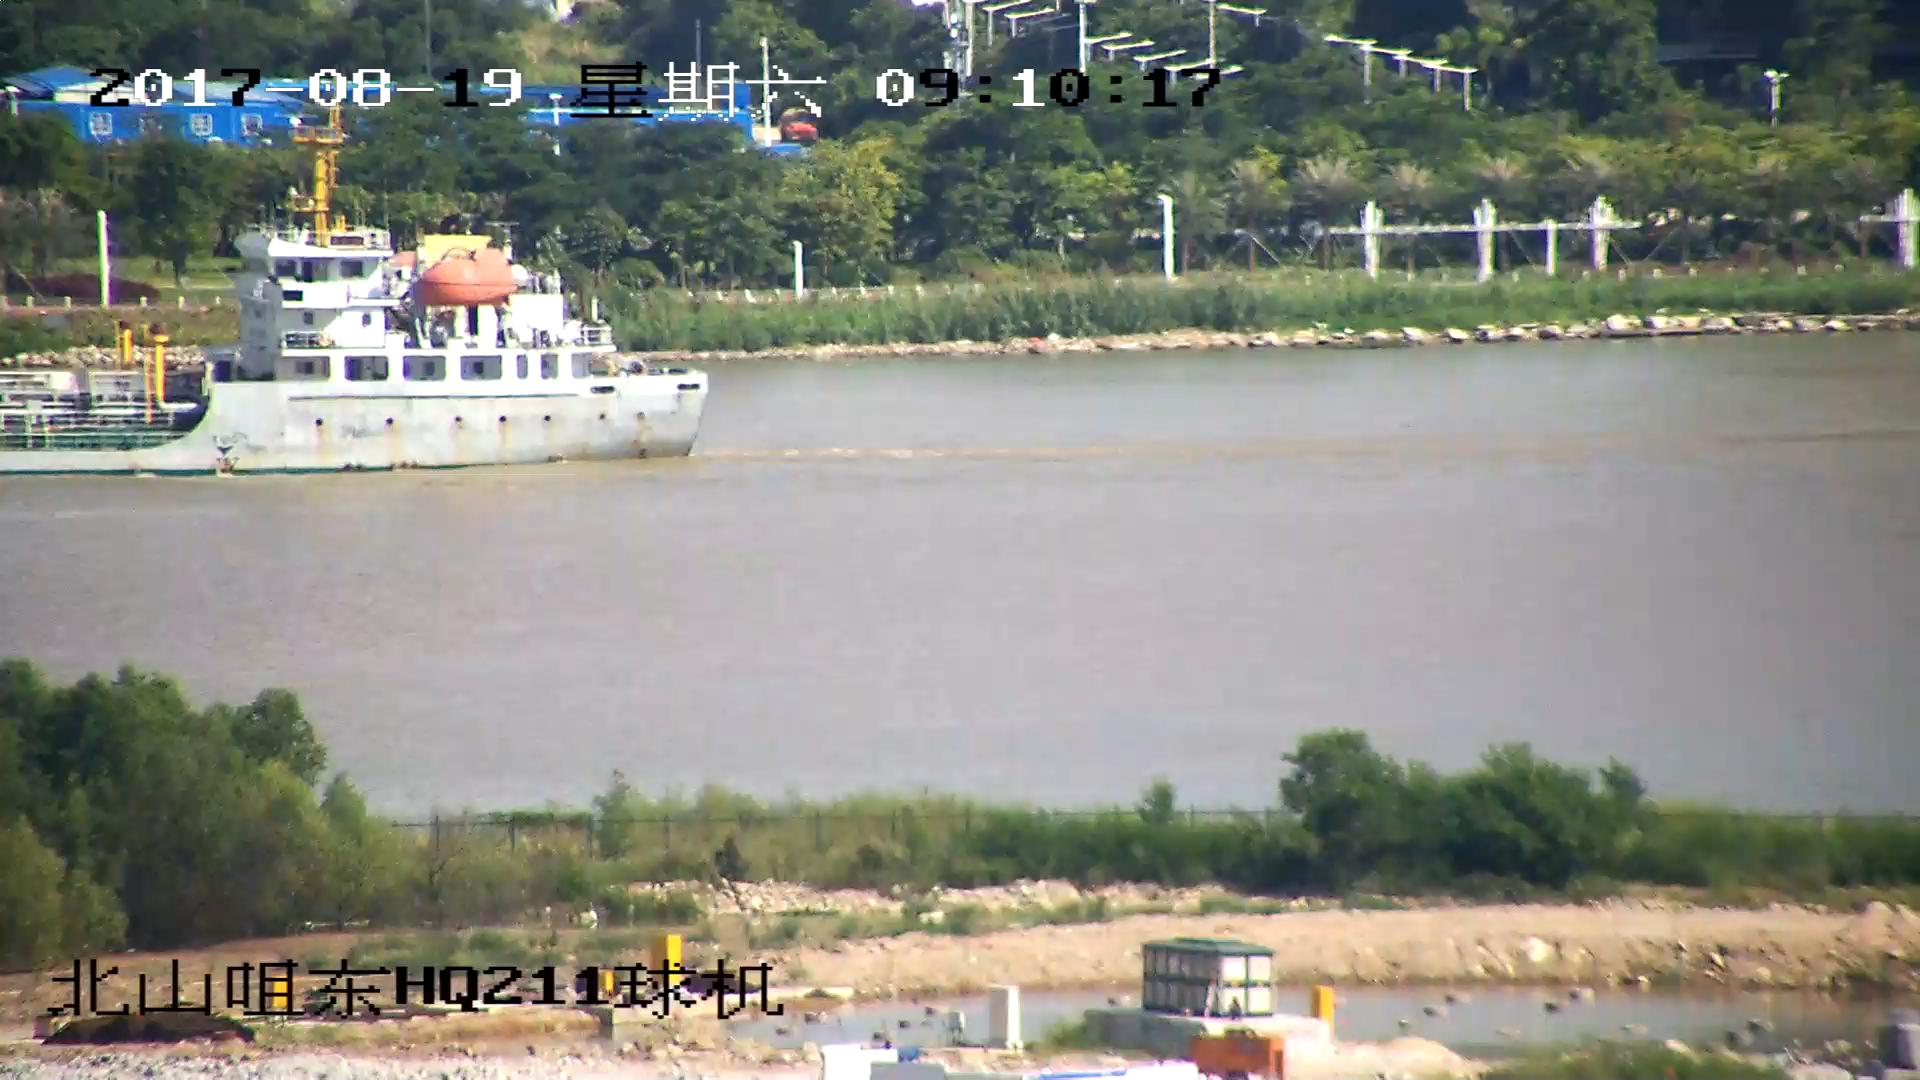general cargo ship: (1, 137, 723, 472)
